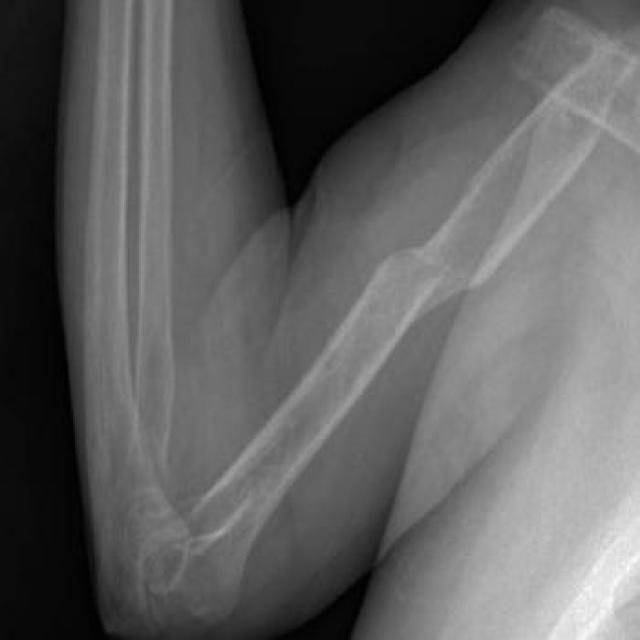Fracture: (398, 212, 464, 318)
